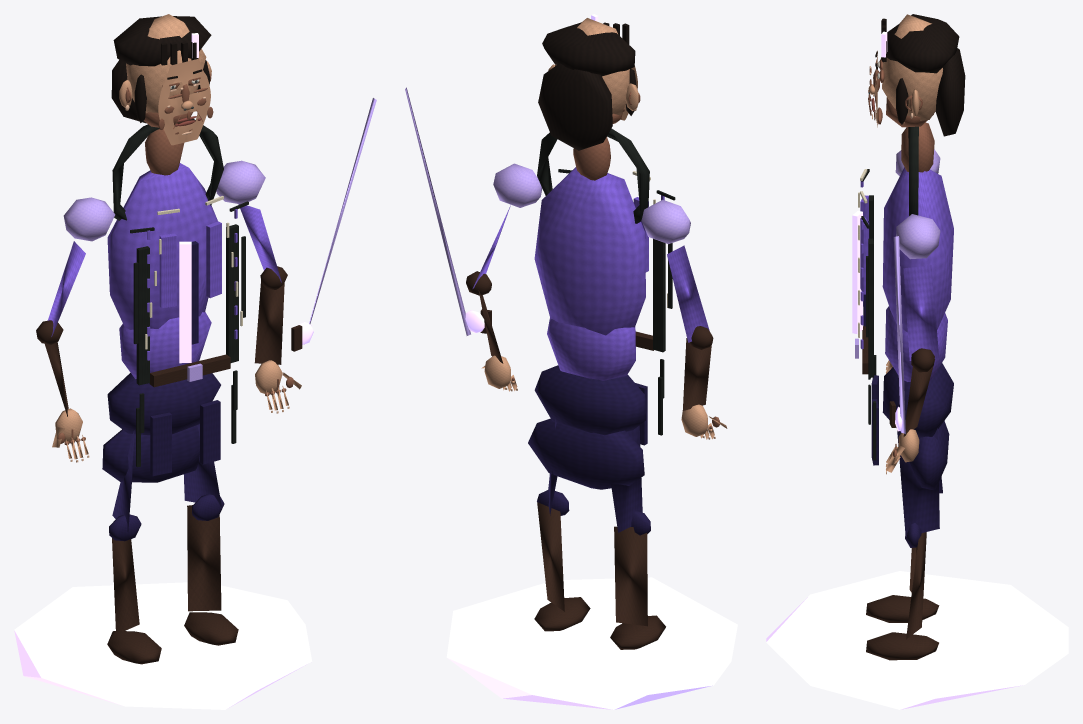
The model's file is violet-duelist-lod1.glb.
3 renders of one model, left to right at view 1: azimuth 30°, elevation 25°; view 2: azimuth 150°, elevation 25°; view 3: azimuth 270°, elevation 25°, orthographic.
Visible parts, largest first — view 1: violet-duelist_table_scale_base_lod1, violet-duelist_ribcage_lod1, violet-duelist_pelvis_lod1, violet-duelist_coat_tail_lod1, violet-duelist_right_shin_lod1, violet-duelist_abdomen_lod1, violet-duelist_face_sculpt_surface_lod1, violet-duelist_hair_cap_lod1, violet-duelist_head_lod1, violet-duelist_left_shin_lod1, violet-duelist_raised_collar_lod1, violet-duelist_right_forearm_lod1 (+25 smaller); view 2: violet-duelist_table_scale_base_lod1, violet-duelist_ribcage_lod1, violet-duelist_coat_tail_lod1, violet-duelist_pelvis_lod1, violet-duelist_back_hair_mass_lod1, violet-duelist_abdomen_lod1, violet-duelist_hair_cap_lod1, violet-duelist_left_shin_lod1, violet-duelist_right_shin_lod1, violet-duelist_left_upper_arm_lod1, violet-duelist_raised_collar_lod1, violet-duelist_left_shoulder_lod1 (+11 smaller); view 3: violet-duelist_table_scale_base_lod1, violet-duelist_ribcage_lod1, violet-duelist_hair_cap_lod1, violet-duelist_right_upper_arm_lod1, violet-duelist_pelvis_lod1, violet-duelist_head_lod1, violet-duelist_right_thigh_lod1, violet-duelist_back_hair_mass_lod1, violet-duelist_coat_tail_lod1, violet-duelist_right_boot_lod1, violet-duelist_right_shoulder_lod1, violet-duelist_abdomen_lod1 (+9 smaller).
Boxes of the visible parts, left/top/right/bottom form: violet-duelist_table_scale_base_lod1: left=14, top=582, right=312, bottom=709; violet-duelist_ribcage_lod1: left=107, top=163, right=217, bottom=329; violet-duelist_pelvis_lod1: left=107, top=373, right=220, bottom=435; violet-duelist_coat_tail_lod1: left=102, top=425, right=199, bottom=482; violet-duelist_right_shin_lod1: left=187, top=505, right=221, bottom=611; violet-duelist_abdomen_lod1: left=119, top=312, right=211, bottom=378; violet-duelist_face_sculpt_surface_lod1: left=158, top=59, right=210, bottom=145; violet-duelist_hair_cap_lod1: left=113, top=16, right=211, bottom=66; violet-duelist_head_lod1: left=126, top=14, right=206, bottom=113; violet-duelist_left_shin_lod1: left=112, top=538, right=139, bottom=634; violet-duelist_raised_collar_lod1: left=112, top=119, right=223, bottom=220; violet-duelist_right_forearm_lod1: left=254, top=280, right=284, bottom=364; violet-duelist_table_scale_base_lod1: left=446, top=577, right=737, bottom=709; violet-duelist_ribcage_lod1: left=534, top=167, right=645, bottom=335; violet-duelist_coat_tail_lod1: left=528, top=418, right=644, bottom=489; violet-duelist_pelvis_lod1: left=534, top=365, right=645, bottom=435; violet-duelist_back_hair_mass_lod1: left=538, top=63, right=612, bottom=150; violet-duelist_abdomen_lod1: left=547, top=318, right=635, bottom=380; violet-duelist_hair_cap_lod1: left=542, top=22, right=635, bottom=76; violet-duelist_left_shin_lod1: left=614, top=526, right=647, bottom=626; violet-duelist_right_shin_lod1: left=537, top=502, right=564, bottom=611; violet-duelist_left_upper_arm_lod1: left=667, top=245, right=709, bottom=342; violet-duelist_raised_collar_lod1: left=537, top=128, right=649, bottom=223; violet-duelist_left_shoulder_lod1: left=641, top=199, right=690, bottom=244; violet-duelist_table_scale_base_lod1: left=766, top=571, right=1068, bottom=709; violet-duelist_ribcage_lod1: left=882, top=167, right=953, bottom=332; violet-duelist_hair_cap_lod1: left=886, top=14, right=959, bottom=73; violet-duelist_right_upper_arm_lod1: left=903, top=265, right=939, bottom=360; violet-duelist_pelvis_lod1: left=882, top=363, right=953, bottom=437; violet-duelist_head_lod1: left=882, top=14, right=942, bottom=123; violet-duelist_right_thigh_lod1: left=897, top=428, right=939, bottom=536; violet-duelist_back_hair_mass_lod1: left=935, top=48, right=965, bottom=136; violet-duelist_coat_tail_lod1: left=909, top=421, right=949, bottom=489; violet-duelist_right_boot_lod1: left=866, top=632, right=938, bottom=660; violet-duelist_right_shoulder_lod1: left=896, top=214, right=940, bottom=259; violet-duelist_abdomen_lod1: left=885, top=306, right=947, bottom=382.
Bounding box in the file's own units: 1.08 × 1.97 × 0.8602.
Materials: 14 (12 with a texture image).
